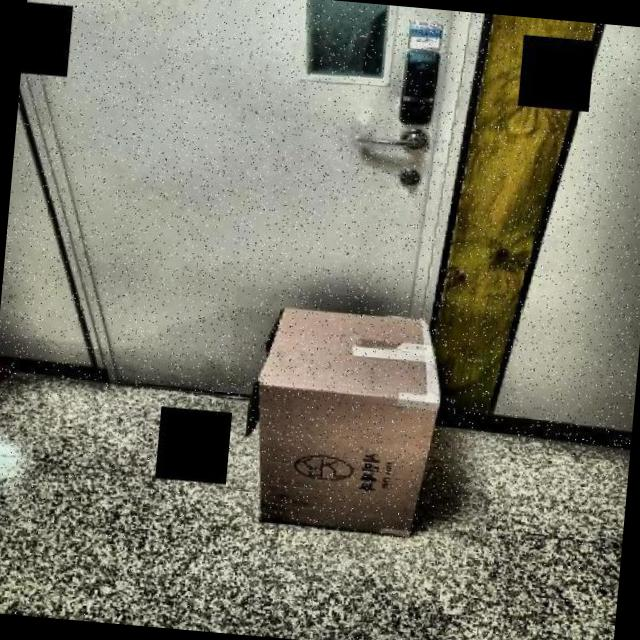box: (214, 284, 477, 558)
